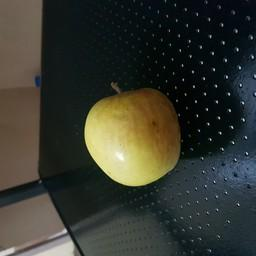Good_apple: (80, 87, 181, 190)
